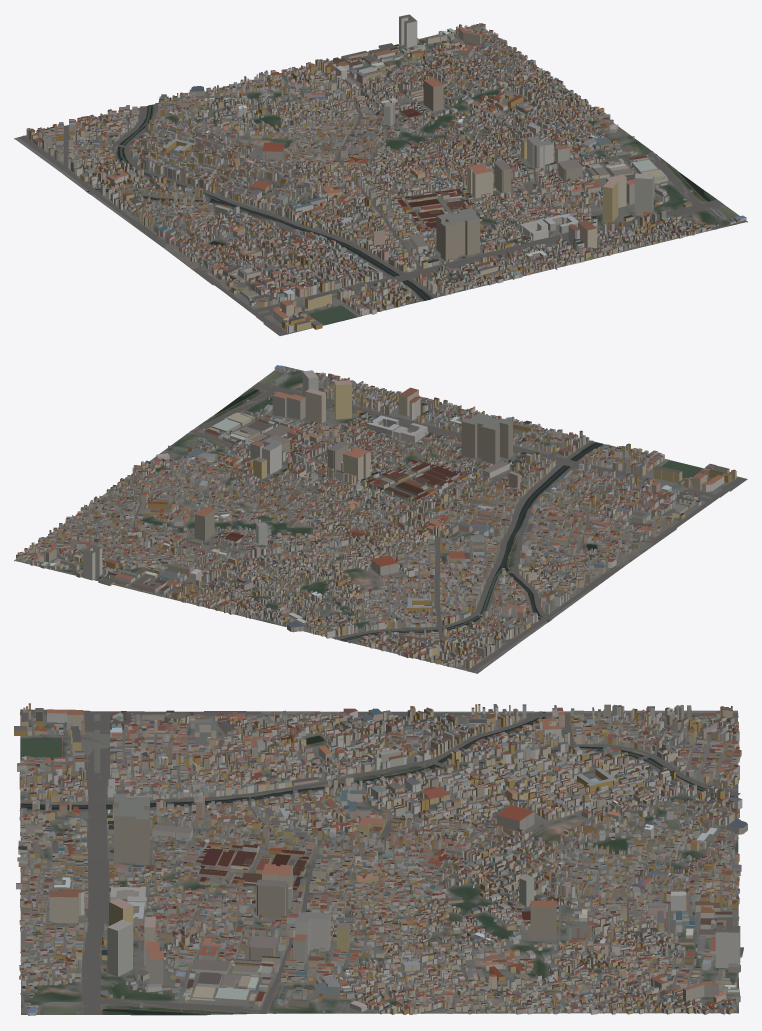
The picture shows the model from 3 angles, top to bottom: view 1: azimuth 30°, elevation 25°; view 2: azimuth 150°, elevation 25°; view 3: azimuth 270°, elevation 25°; orthographic projection. The views are drawn at different scales.
Parts seen in each view (by area): view 1: buildings, ground, roads, water; view 2: buildings, ground, roads, water; view 3: buildings, ground, roads, water.
Boxes of the visible parts, x1,y1,x2,y2 form: buildings: (26,14,746,332); ground: (14,26,747,333); roads: (18,27,745,335); water: (87,104,710,324); buildings: (16,365,736,669); ground: (14,365,738,673); roads: (15,368,747,672); water: (184,389,702,640); buildings: (14,703,747,1015); ground: (20,710,738,1015); roads: (19,709,740,1014); water: (20,711,736,1014).
Size of the model in its own units: 1416 by 104 by 1433.
